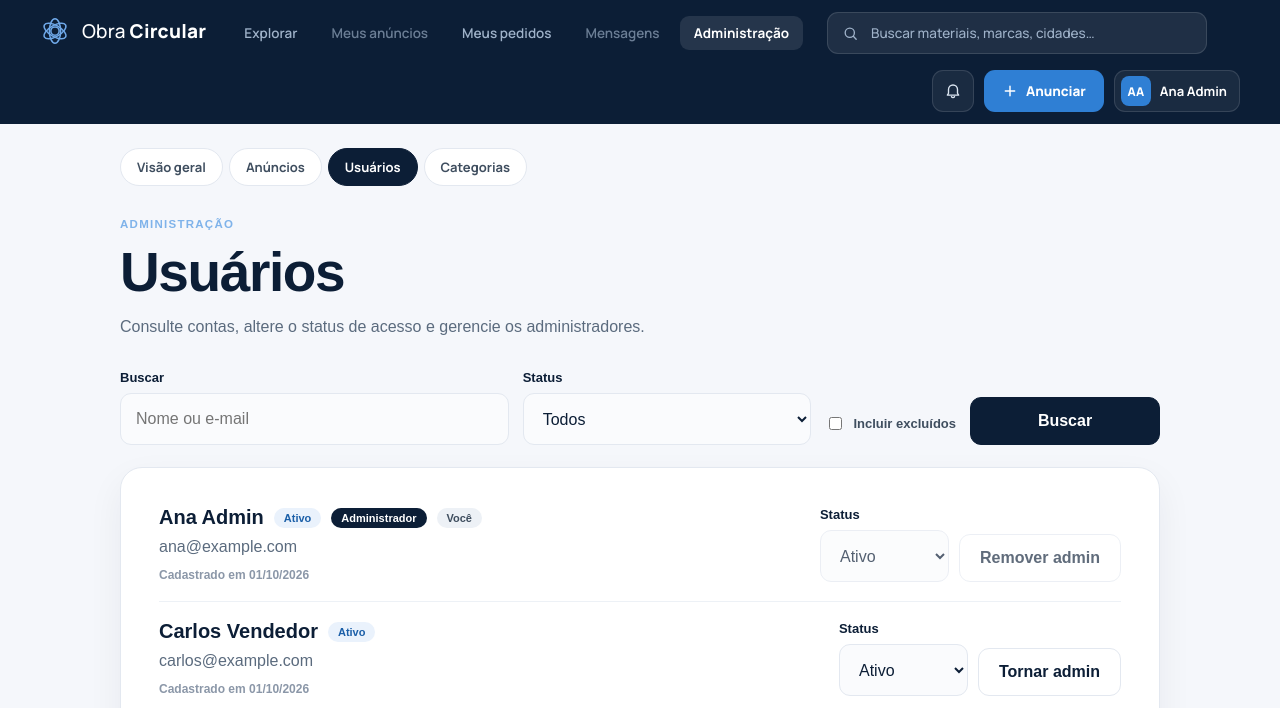
Test: Administração › bloqueia usuário e protege a própria conta
Expected: the dropdown named "Status de Ana Admin" is disabled, [820,530,949,582]
Select "Bloqueado" in the dropdown named "Status de Carlos Vendedor". click: (904, 670)
box: [839,644,968,696]
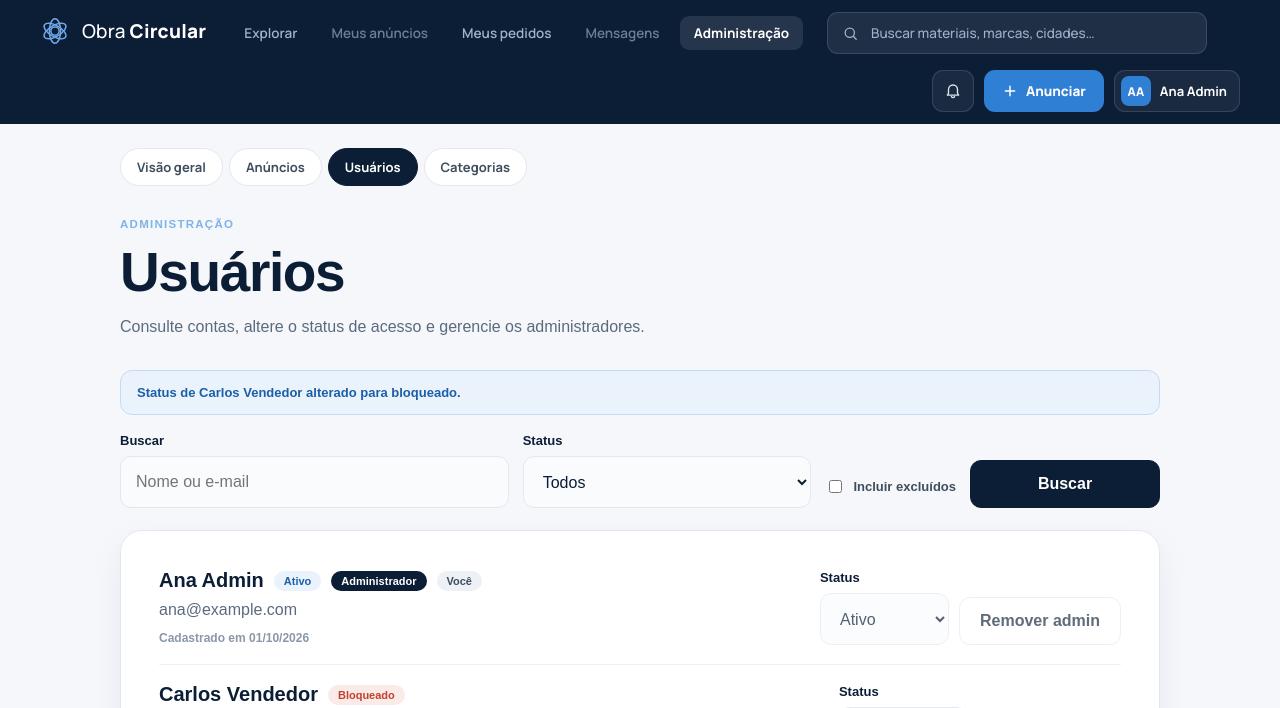
Result: the message reads "Status de Carlos Vendedor alterado para bloqueado." at [137,385,461,400]
